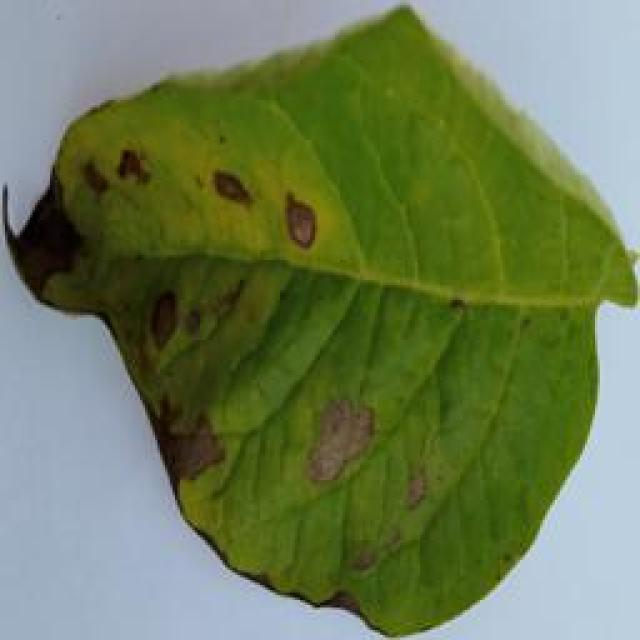Potato_Late_Blight: (8, 2, 625, 633)
